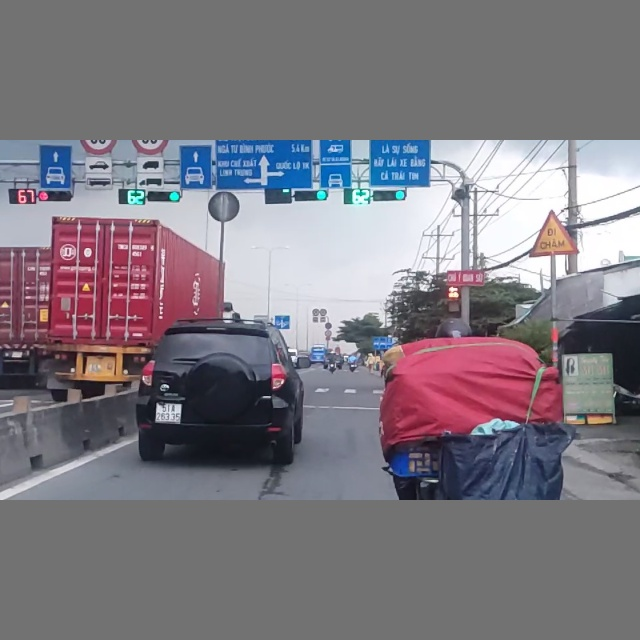W.245a: (528, 209, 578, 257)
